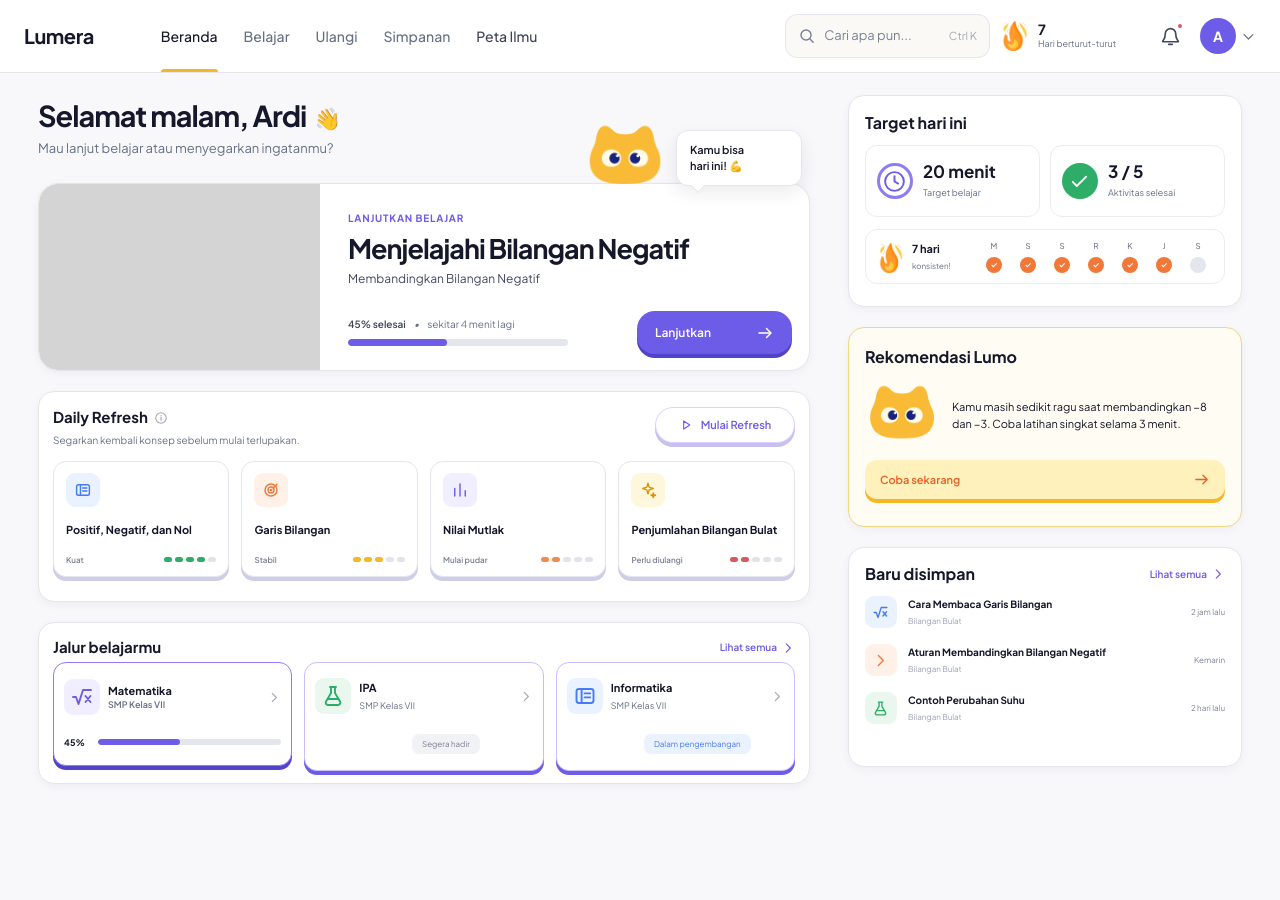
Test case: Lumera Batch 1 student shell › wires every screenshot metric and section to the explicit Ardi demo
Expected: the heading "Selamat malam, Ardi 👋" is shown, 38,97 -> 342,134
Expected: the text "45%" is shown, 64,737 -> 85,748
Click the button "Mulai Refresh": (725, 425) 655,407 -> 795,443
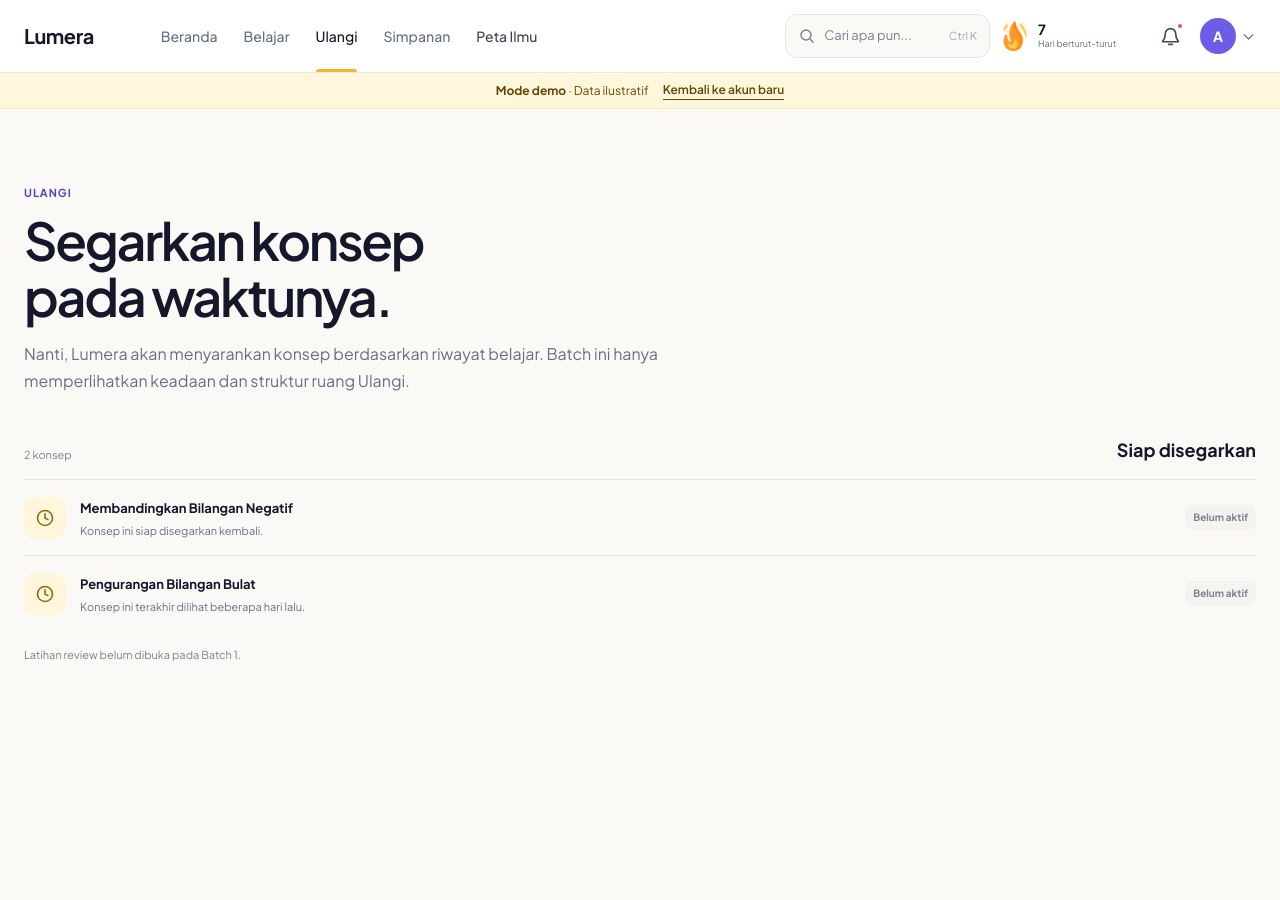
Expected: the text "Membandingkan Bilangan Negatif" is shown, 80,500 -> 293,516
Expected: the text "Pengurangan Bilangan Bulat" is shown, 80,576 -> 256,592
